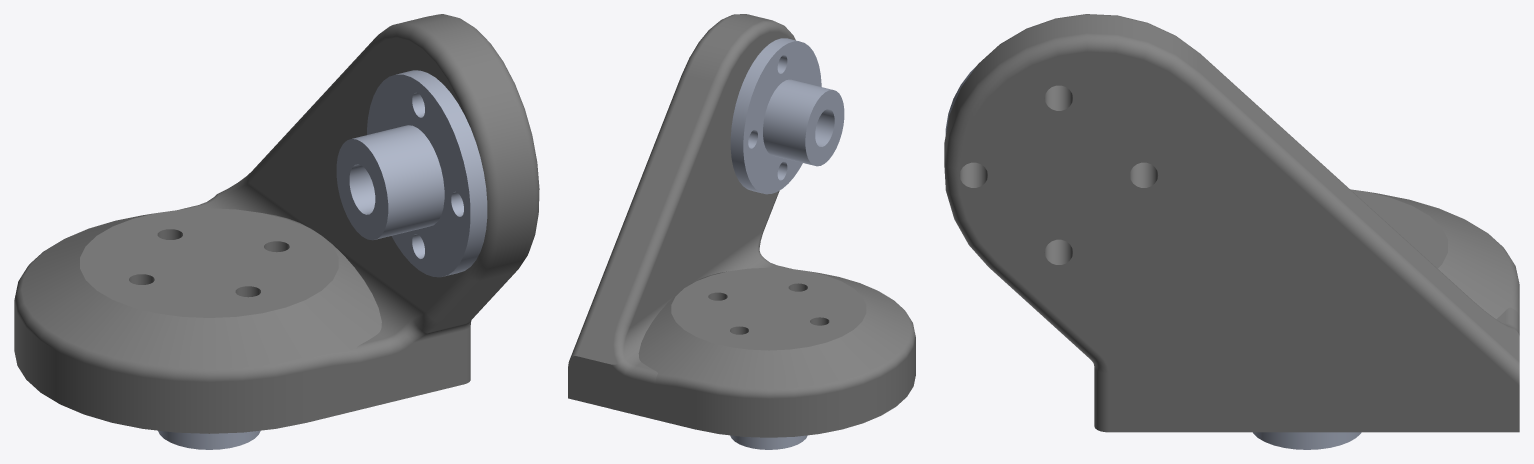
File: axis0.fbx
3 views of the same model, side by side, from view 1: azimuth 30°, elevation 25°; view 2: azimuth 150°, elevation 25°; view 3: azimuth 270°, elevation 25° (orthographic). The views are drawn at different scales.
Parts seen in each view (by area): view 1: Ô²½Ç25, ÇÐ³ý-ÀÉì2 (×2); view 2: Ô²½Ç25, ÇÐ³ý-ÀÉì2 (×2); view 3: Ô²½Ç25, ÇÐ³ý-ÀÉì2.
Boxes of the visible parts, bbox=[...] form: Ô²½Ç25: bbox=[14, 14, 539, 433]; ÇÐ³ý-ÀÉì2 (×2): bbox=[158, 70, 487, 449]; Ô²½Ç25: bbox=[568, 14, 915, 437]; ÇÐ³ý-ÀÉì2 (×2): bbox=[730, 38, 844, 449]; Ô²½Ç25: bbox=[944, 14, 1519, 432]; ÇÐ³ý-ÀÉì2: bbox=[1253, 432, 1361, 449].
Bounding box in the file's own units: 2.36 × 2.92 × 3.2.
